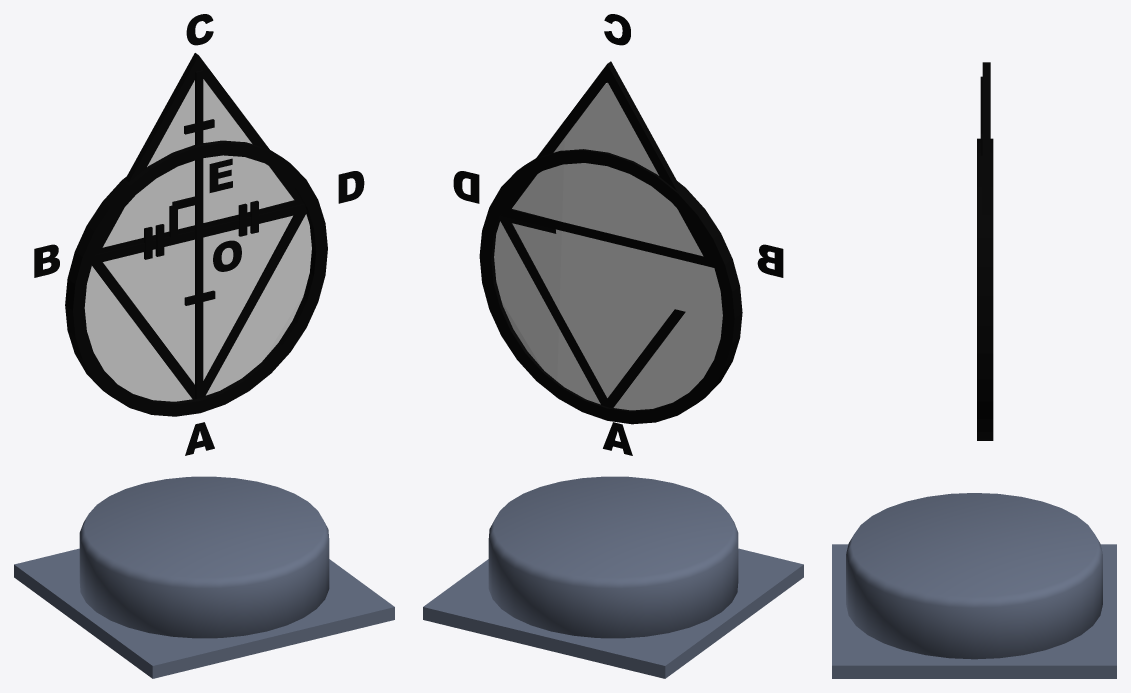
3 views of the same model, side by side, from view 1: azimuth 30°, elevation 25°; view 2: azimuth 150°, elevation 25°; view 3: azimuth 270°, elevation 25° (orthographic). The views are drawn at different scales.
Visible parts, largest first — view 1: Cube.002, Cylinder, Cube, Circle, Cone.001, Cone, Cube.001, Text.006, Text.005, Text.004, Text.007; view 2: Cube.002, Cylinder, Cube, Circle, Cone, Cone.001, Text.006, Text.005; view 3: Cylinder, Cube, Circle, Cone.
Boxes of the visible parts, x1,y1,x2,y2 form: Cube.002: (84,79,311,401); Cylinder: (79,476,329,638); Cube: (14,548,394,678); Circle: (65,140,327,416); Cone.001: (92,204,306,399); Cone: (96,53,303,254); Cube.001: (195,70,203,398); Text.006: (34,244,59,277); Text.005: (338,171,364,203); Text.004: (213,240,241,271); Text.007: (209,158,232,192); Cube.002: (494,82,722,410); Cylinder: (488,476,738,638); Cube: (423,548,803,678); Circle: (479,149,742,424); Cone: (501,61,714,267); Cone.001: (500,216,685,407); Text.006: (757,244,783,277); Text.005: (453,171,479,203); Cylinder: (846,493,1102,659); Cube: (832,544,1116,678); Circle: (977,138,993,440); Cone: (982,62,990,214).
Bounding box in the file's own units: 12.47 × 21.13 × 9.09.
